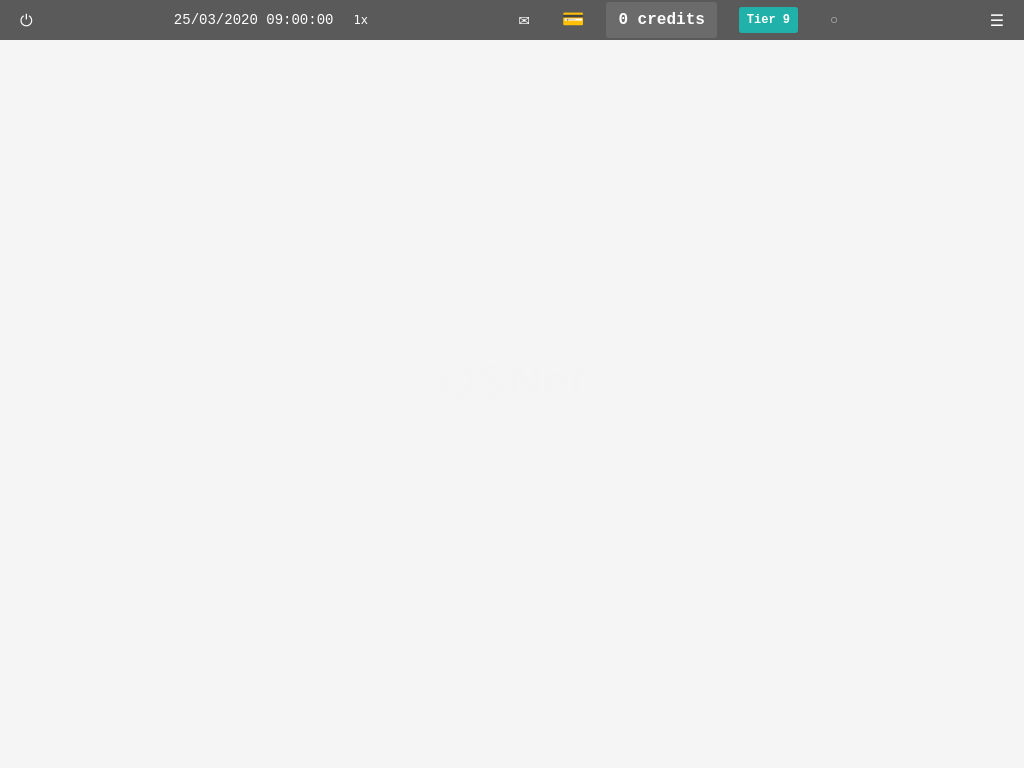
Test: Window Management Integration › should cascade multiple windows correctly
// Open Mail
Hover over the button "☰": (997, 20) [982,6,1012,34]
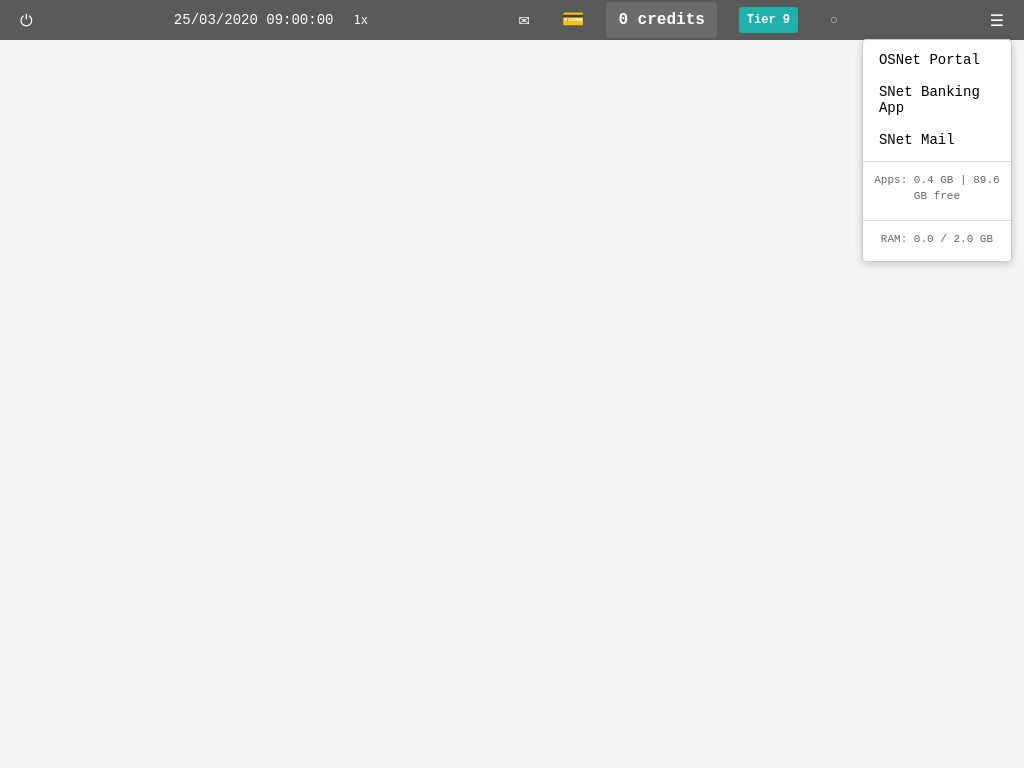
Now the button "SNet Mail" is shown
Click the button "SNet Mail": (937, 140) [863,124,1011,156]
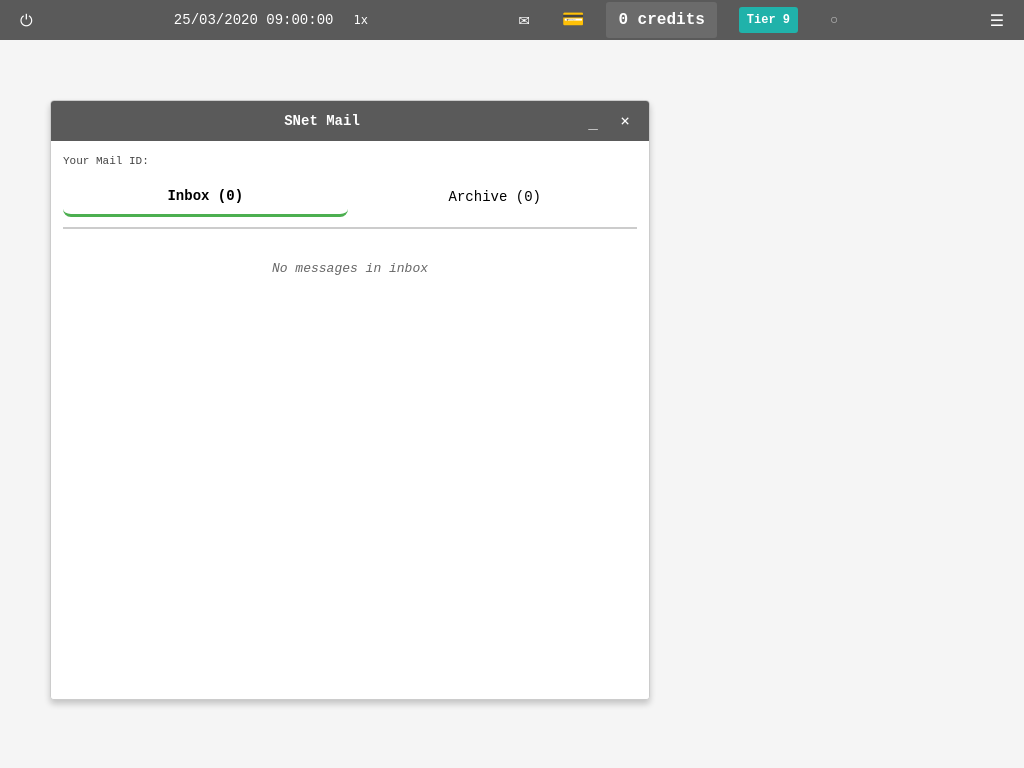
// Open Banking
Hover over the button "☰": (997, 20) [982,6,1012,34]
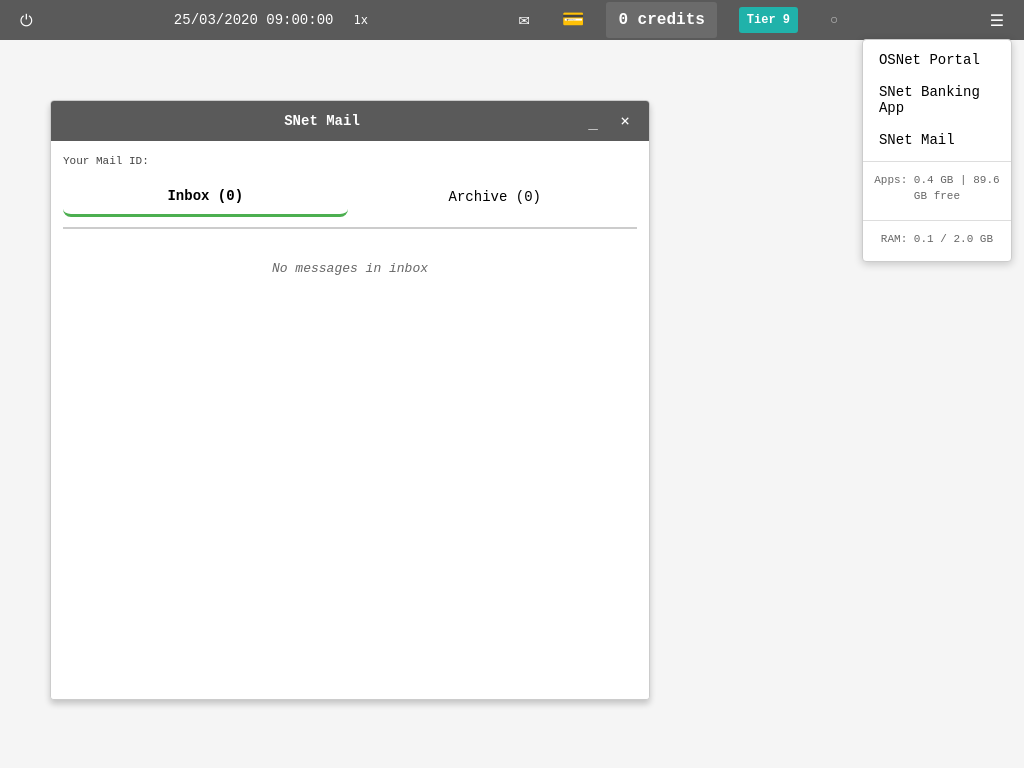
Now the button "SNet Banking App" is shown
Click the button "SNet Banking App": (937, 100) [863,76,1011,124]
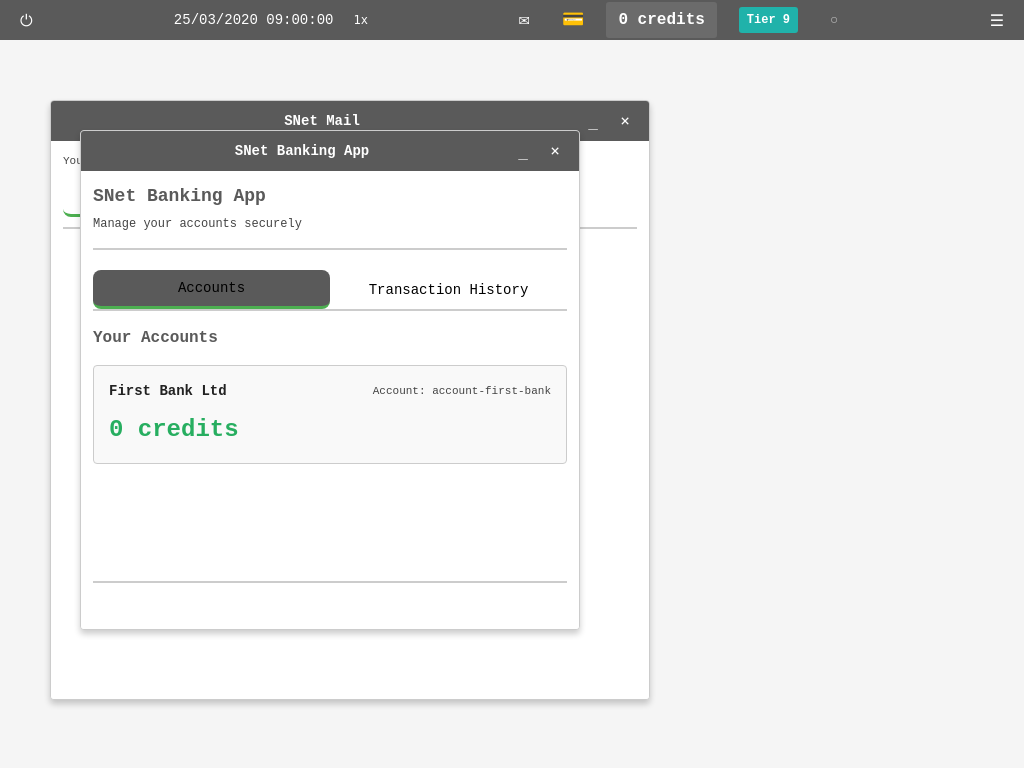
// Open Portal
Hover over the button "☰": (997, 20) [982,6,1012,34]
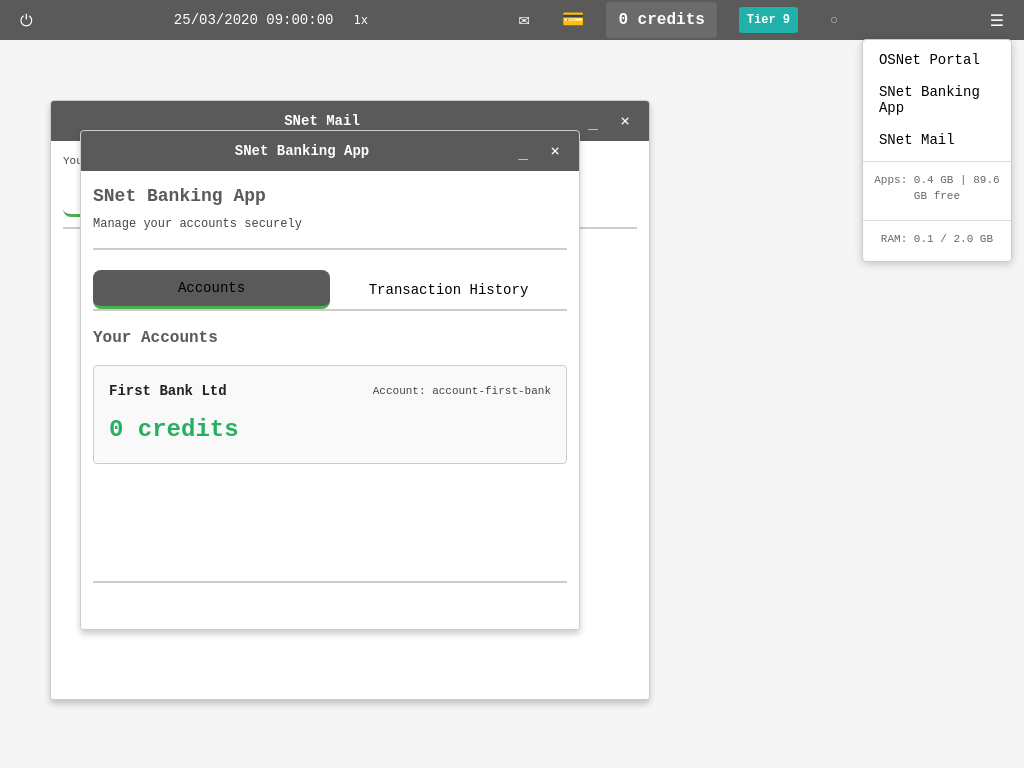
Now the button "OSNet Portal" is shown
Click the button "OSNet Portal": (937, 60) [863,44,1011,76]
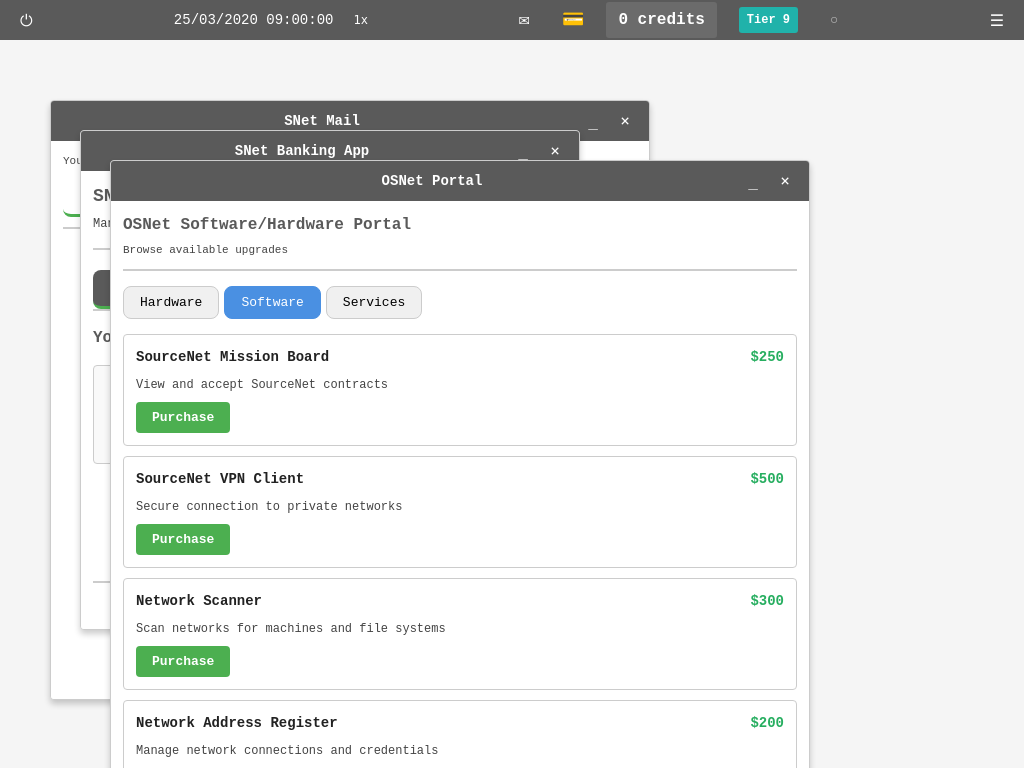
Now the number of elements with class "window" is 3, box [50,100,650,700]; [80,130,580,630]; [110,160,810,767]
